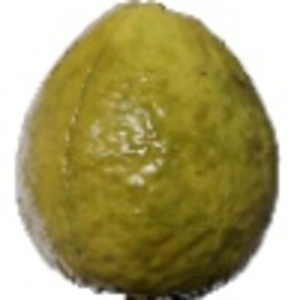goiaba: (12, 3, 283, 297)
